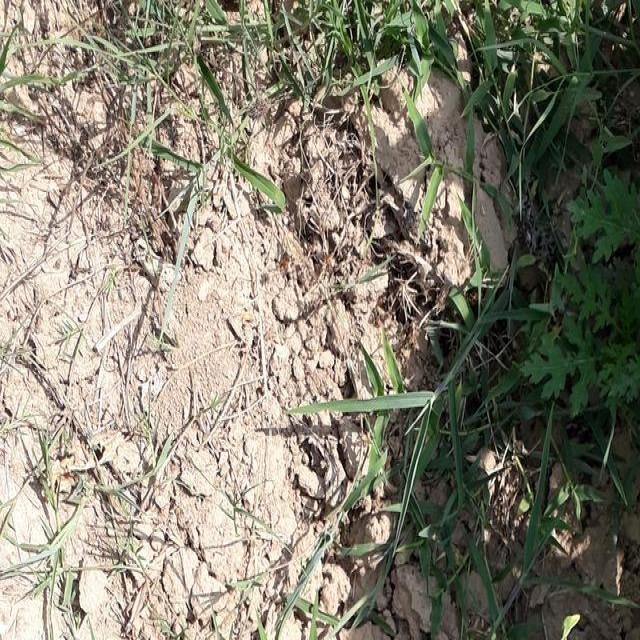weed: (492, 0, 640, 449)
